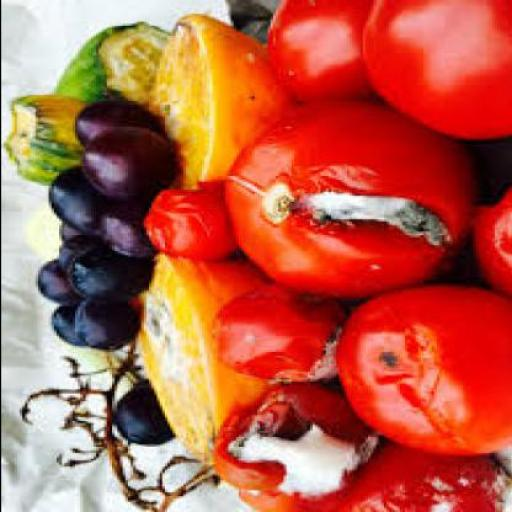biodegradable: (222, 99, 475, 299), (127, 259, 279, 468), (328, 288, 510, 458), (145, 16, 288, 192), (359, 2, 509, 144), (208, 384, 374, 496), (205, 289, 341, 387), (336, 438, 502, 511), (264, 2, 375, 103), (50, 26, 168, 111), (234, 450, 367, 511), (137, 182, 232, 262), (1, 97, 84, 186), (74, 131, 166, 198), (470, 176, 510, 298), (67, 247, 150, 303), (42, 169, 103, 235), (111, 380, 166, 448), (92, 202, 153, 261), (68, 302, 135, 354), (69, 103, 145, 148), (34, 264, 74, 306), (54, 239, 102, 269), (50, 306, 77, 348), (50, 224, 79, 246)
